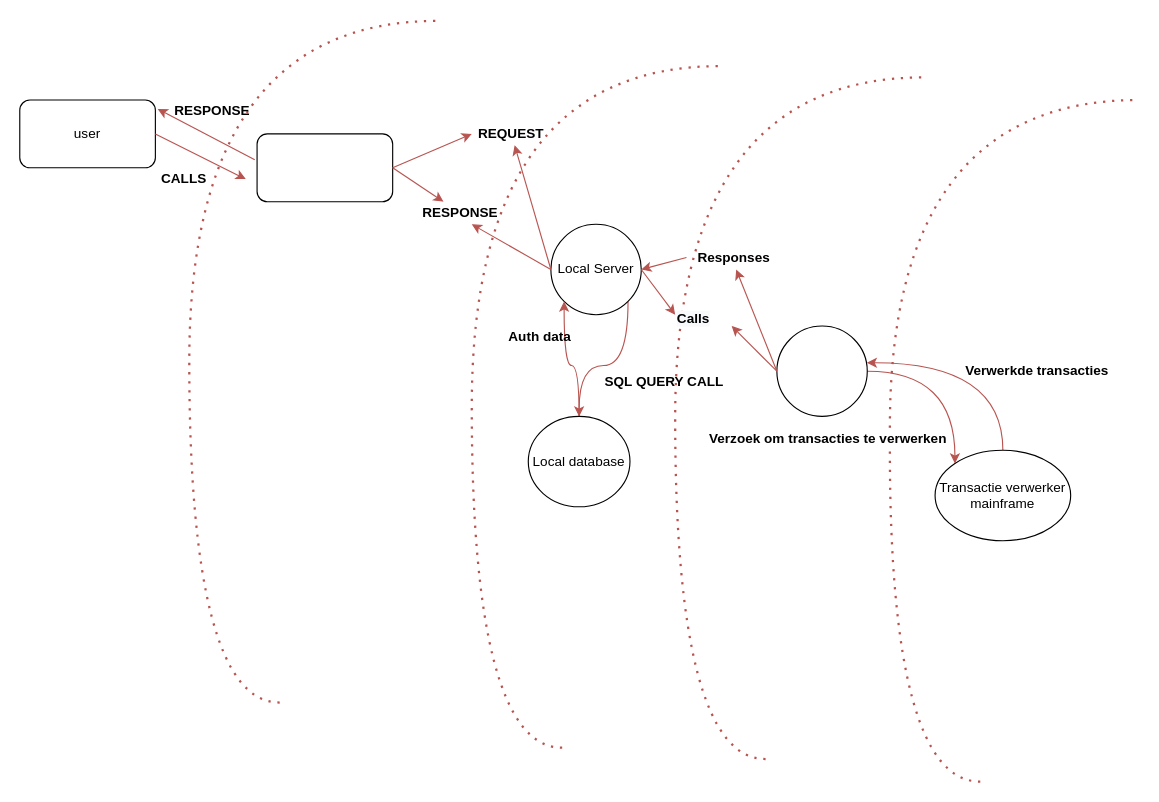
Some shapes in this 1159 by 802 pixel diagram are drawn without their labels. The shapes that lost their labels are listed below. From the top down, each one's box as (x1, y1, x2, y2) in pixels, then its label:
(256, 133, 393, 202): Local software
(776, 325, 867, 416): NOOB server
